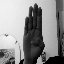b: (21, 2, 47, 60)
